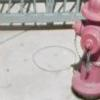Hydrant: (63, 0, 100, 100)
